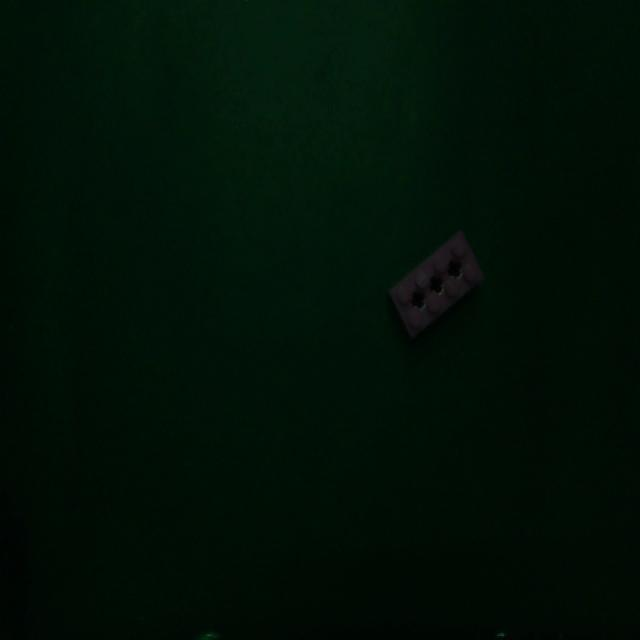lego_brick: (389, 232, 483, 337)
